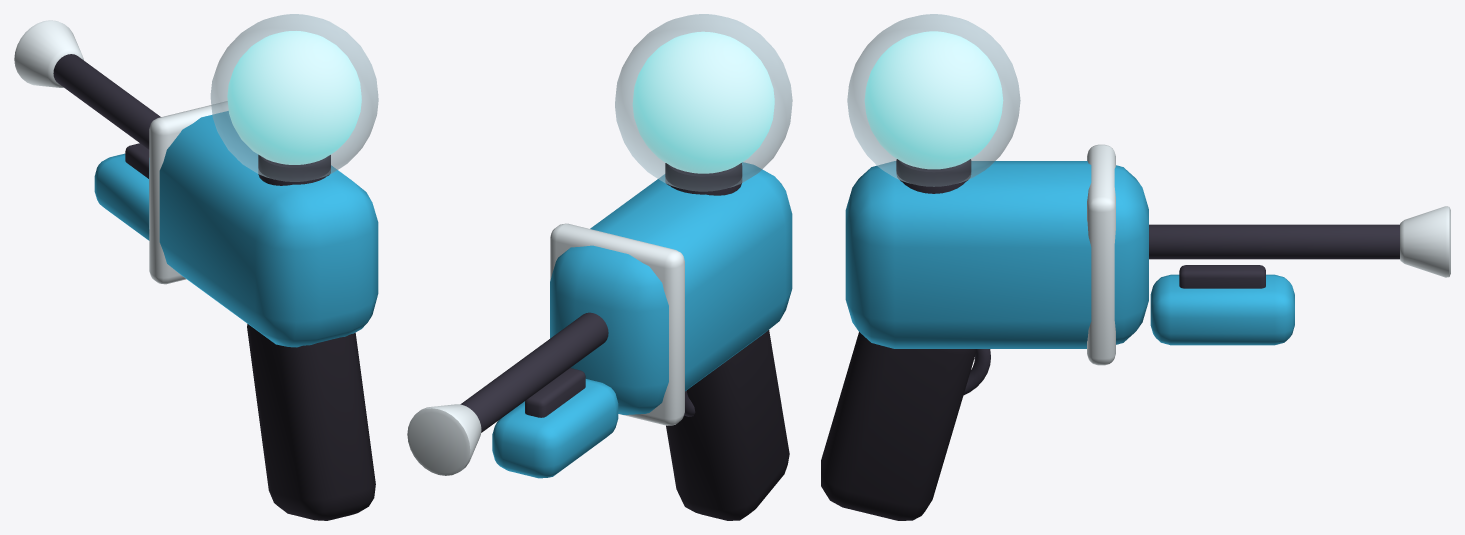
The model's file is Spritzer.fbx.
3 renders of one model, left to right at view 1: azimuth 30°, elevation 25°; view 2: azimuth 150°, elevation 25°; view 3: azimuth 270°, elevation 25°, orthographic. The views are drawn at different scales.
Parts seen in each view (by area): view 1: Body, Glass, Grip, Gas, Trim, Metal, Pump; view 2: Body, Glass, Gas, Grip, Trim, Metal, Pump; view 3: Body, Glass, Grip, Gas, Metal, Pump, Trim.
Boxes of the visible parts, box(x1,y1,x2,y2) form: Body: box(149, 111, 378, 347); Glass: box(210, 14, 378, 181); Grip: box(247, 324, 375, 520); Gas: box(227, 31, 361, 164); Trim: box(14, 20, 228, 284); Metal: box(53, 54, 330, 185); Pump: box(94, 153, 149, 240); Body: box(550, 162, 792, 414); Glass: box(615, 14, 792, 191); Gas: box(632, 31, 774, 173); Grip: box(666, 330, 789, 520); Trim: box(407, 223, 684, 475); Metal: box(460, 163, 742, 432); Pump: box(492, 379, 618, 478); Body: box(845, 161, 1148, 348); Glass: box(847, 14, 1020, 186); Grip: box(821, 332, 976, 520); Gas: box(864, 31, 1003, 169); Metal: box(896, 159, 1399, 395); Pump: box(1150, 274, 1294, 345); Trim: box(1087, 144, 1450, 365).
Size of the model in its own units: 0.6 by 1.87 by 2.18.
